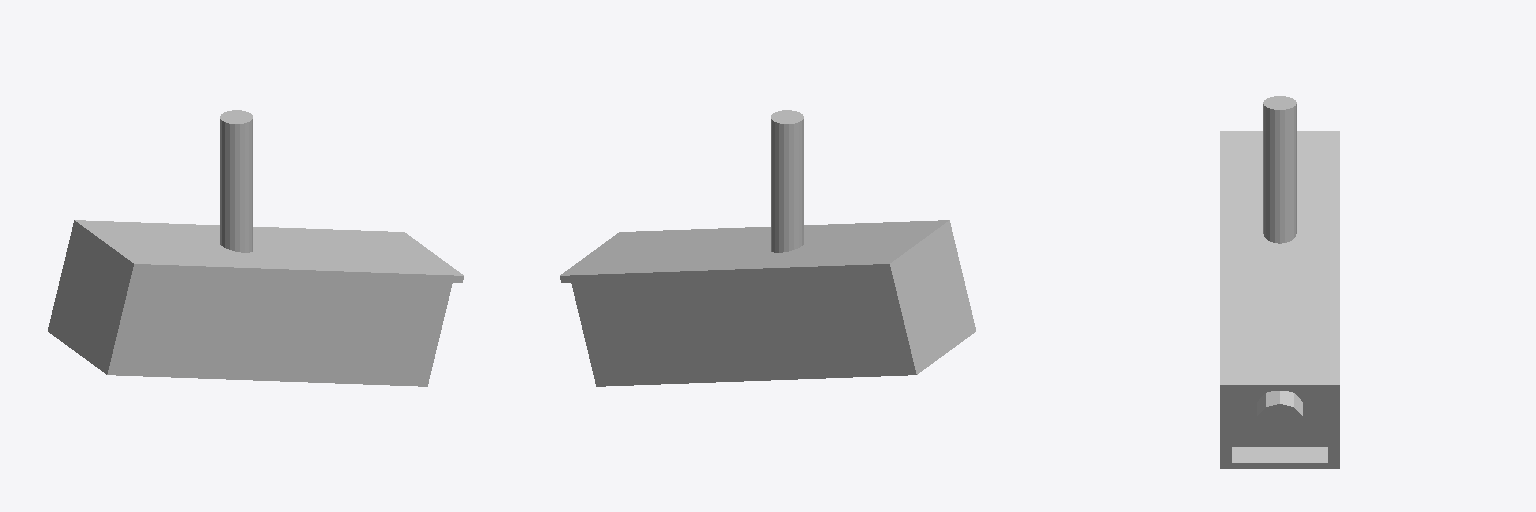
Rendered from camera.obj.
3 renders of one model, left to right at view 1: azimuth 30°, elevation 25°; view 2: azimuth 150°, elevation 25°; view 3: azimuth 270°, elevation 25°, orthographic.
Visible parts, largest first — view 1: initialShadingGroup pCylinder4; view 2: initialShadingGroup pCylinder4; view 3: initialShadingGroup pCylinder4.
Boxes of the visible parts, x1,y1,x2,y2 form: initialShadingGroup pCylinder4: [48, 110, 463, 386]; initialShadingGroup pCylinder4: [560, 110, 975, 386]; initialShadingGroup pCylinder4: [1220, 96, 1339, 468].
Size of the model in its own units: 2.58 by 1.99 by 0.75.